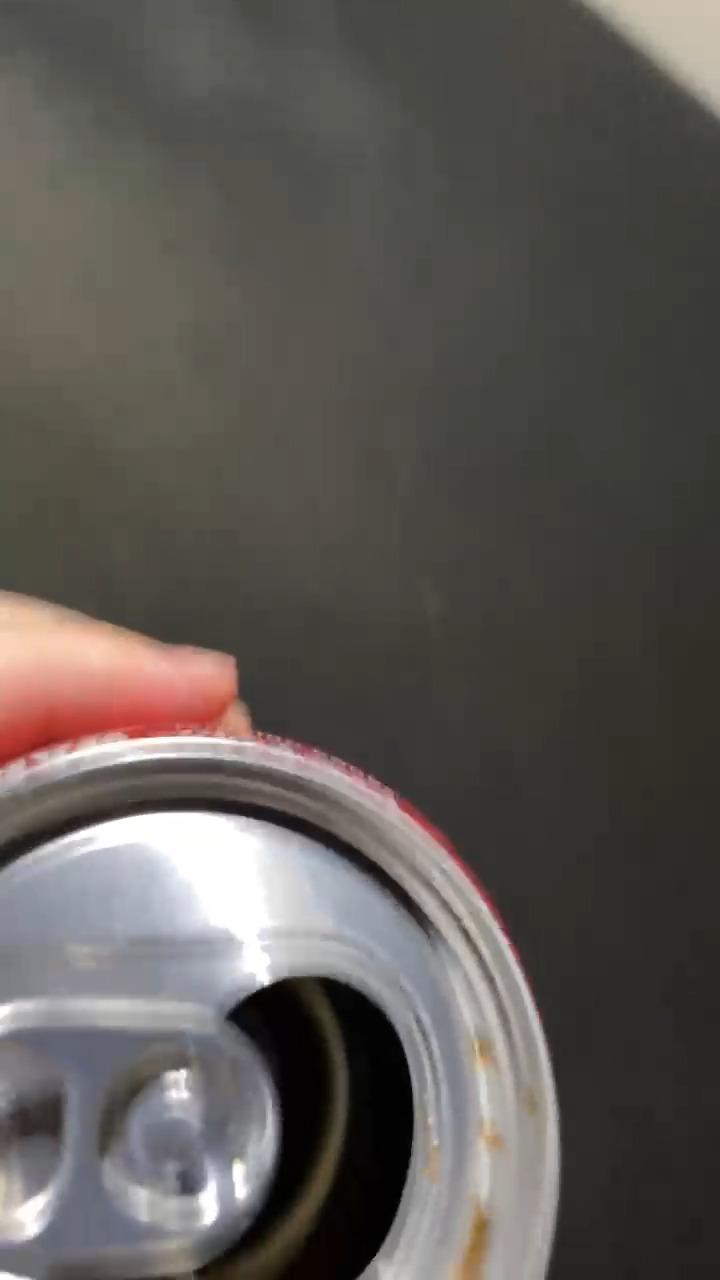coke: (0, 743, 545, 1276)
